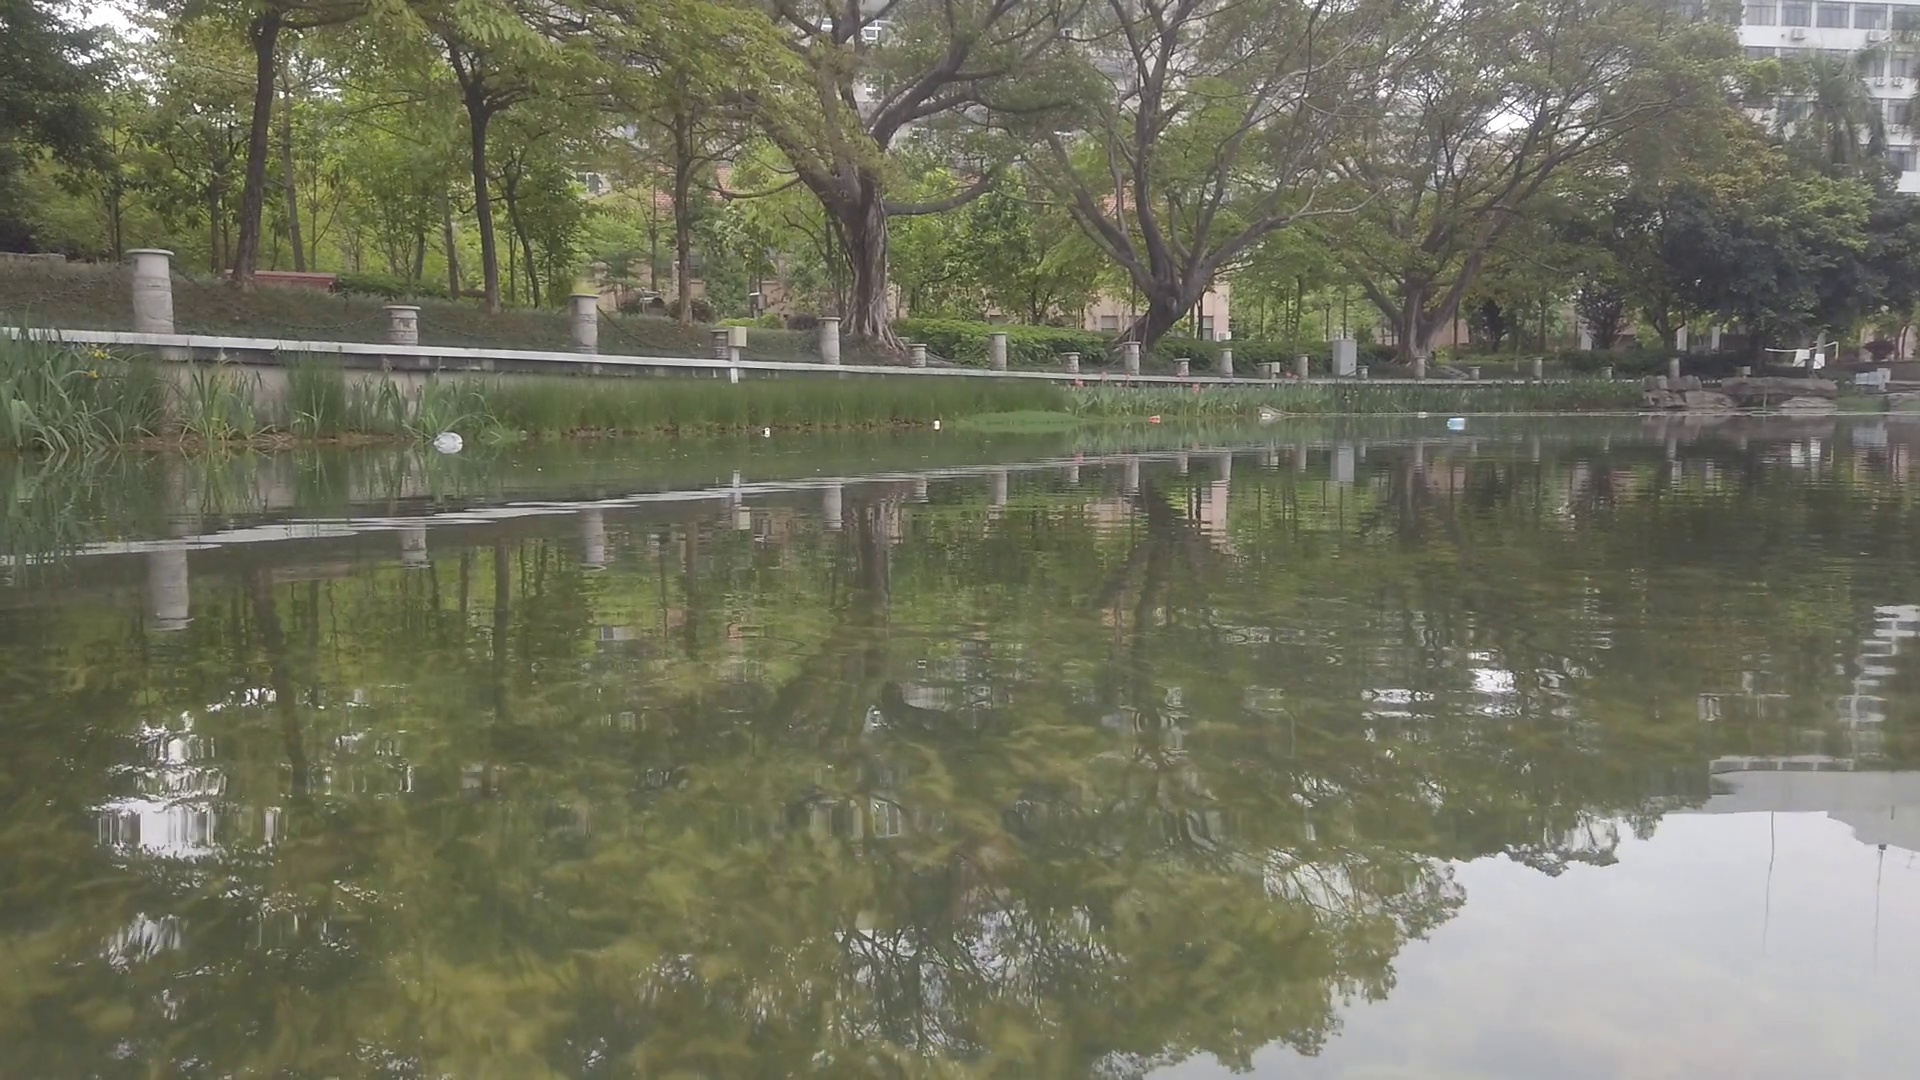bottle: (761, 426, 771, 436), (1149, 414, 1160, 422), (1419, 410, 1429, 415), (1261, 414, 1270, 418)
carton: (1445, 418, 1466, 427), (934, 419, 940, 430)
plastic: (433, 431, 464, 448)
